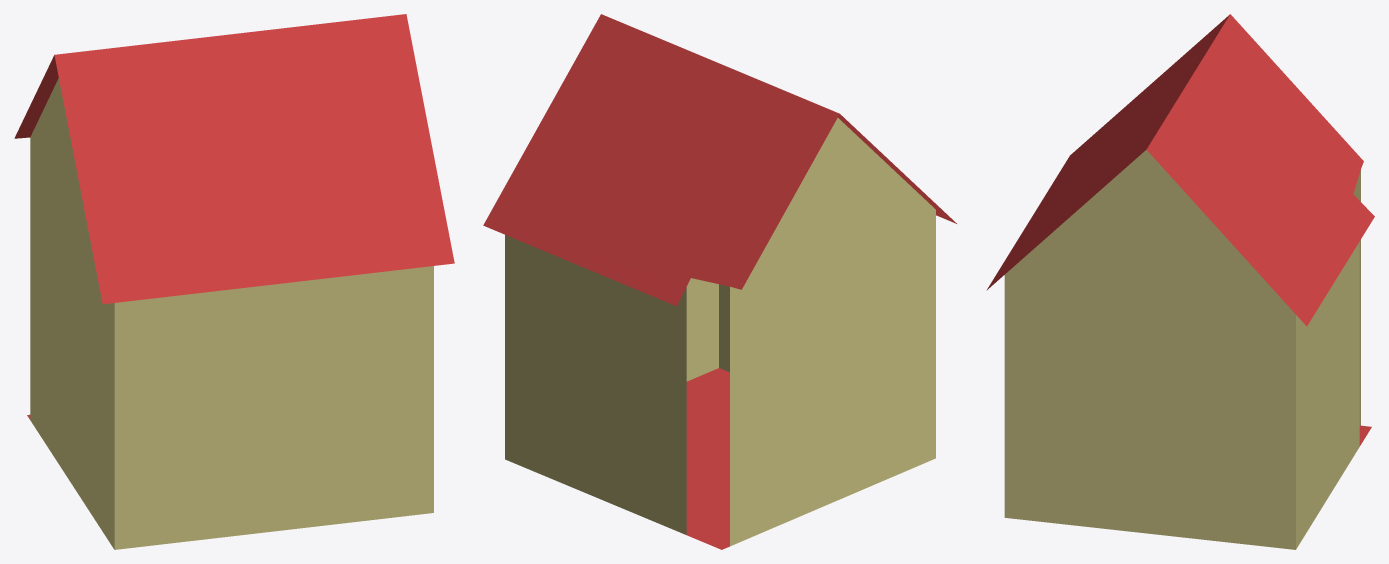
3 renders of one model, left to right at view 1: azimuth 30°, elevation 25°; view 2: azimuth 150°, elevation 25°; view 3: azimuth 270°, elevation 25°, orthographic. The views are drawn at different scales.
Bounding box in the file's own units: 13.19 × 12.67 × 14.03.
